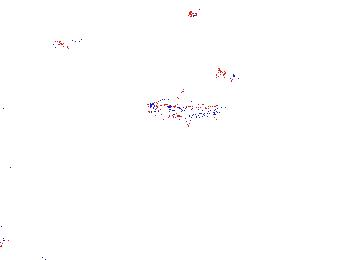X-ray fish: (1, 137, 22, 170)
red belly glassfish: (146, 96, 227, 125), (211, 65, 239, 83), (51, 39, 80, 53), (188, 4, 207, 23)
